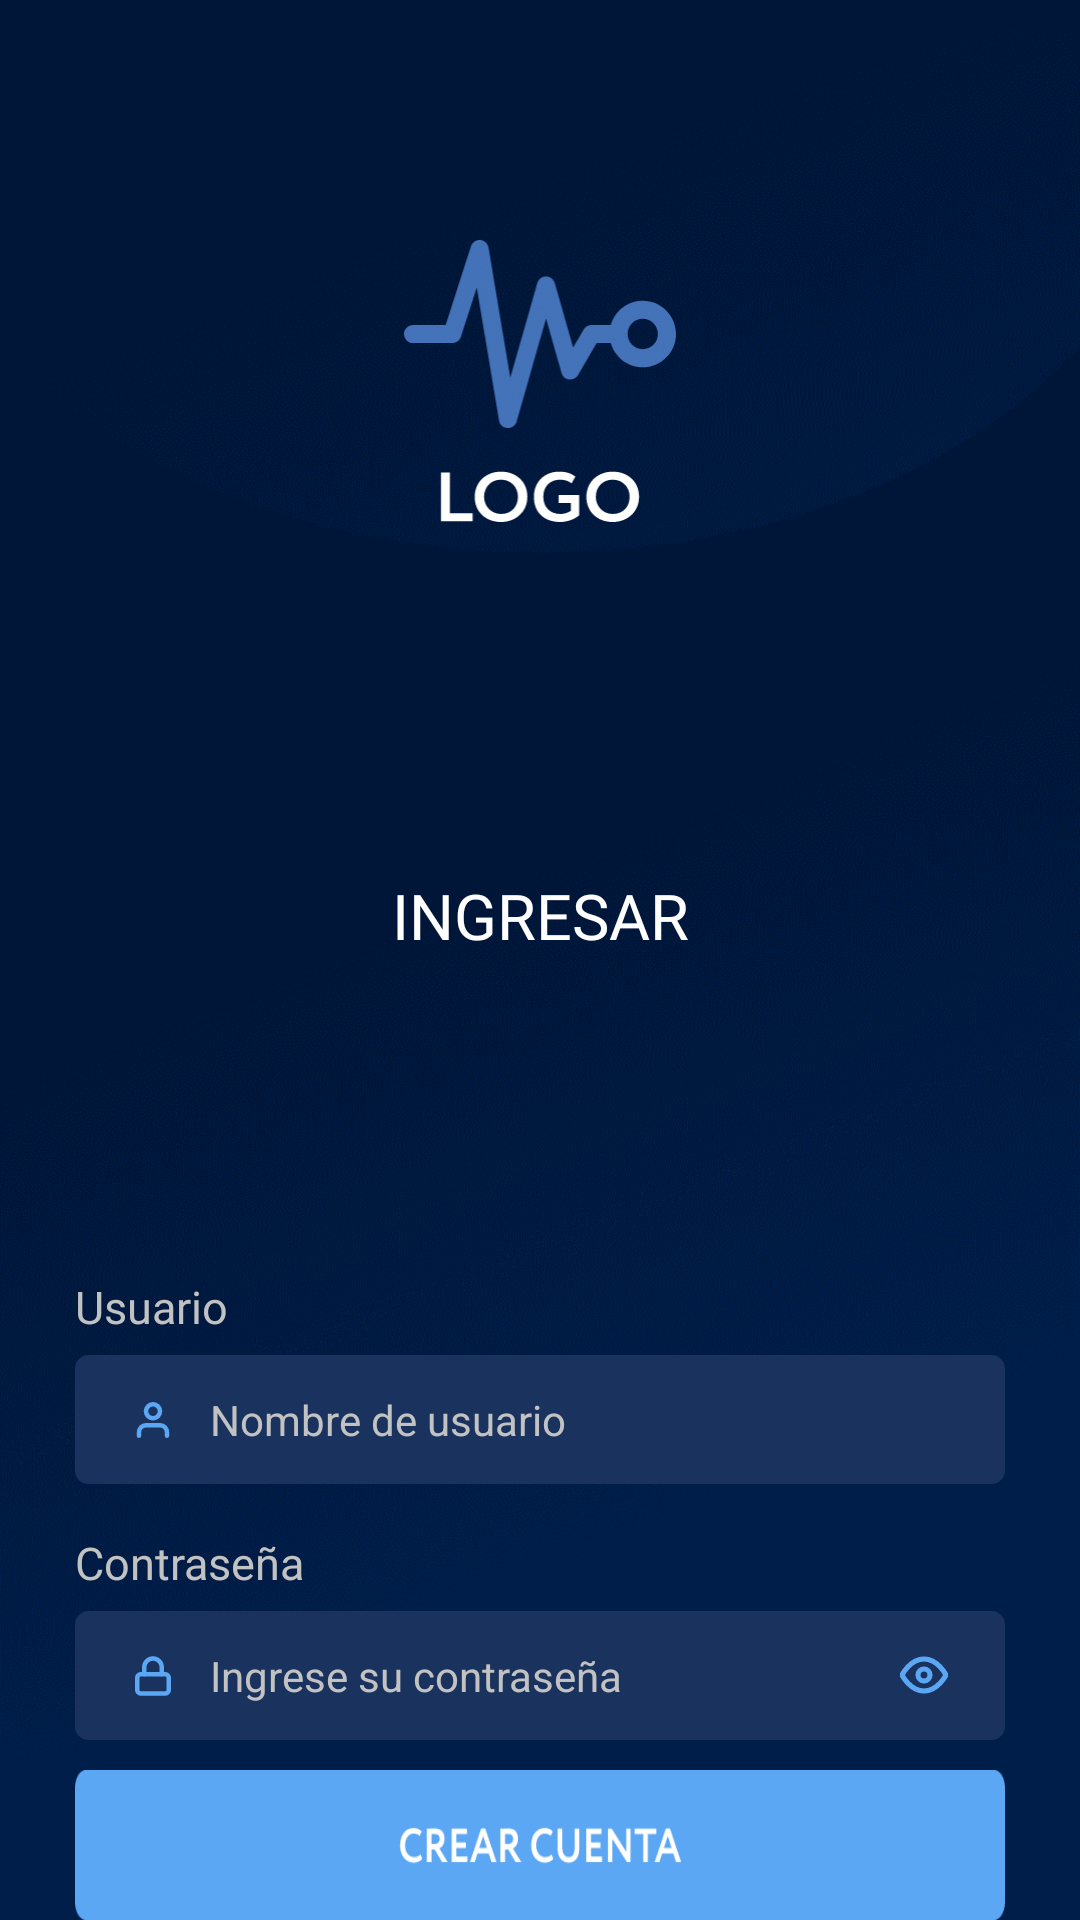

Screen size 1080*1920. Icon name, then its center in pixels as (x,y):
contrasena: (153,1676)
mostrar: (924,1675)
